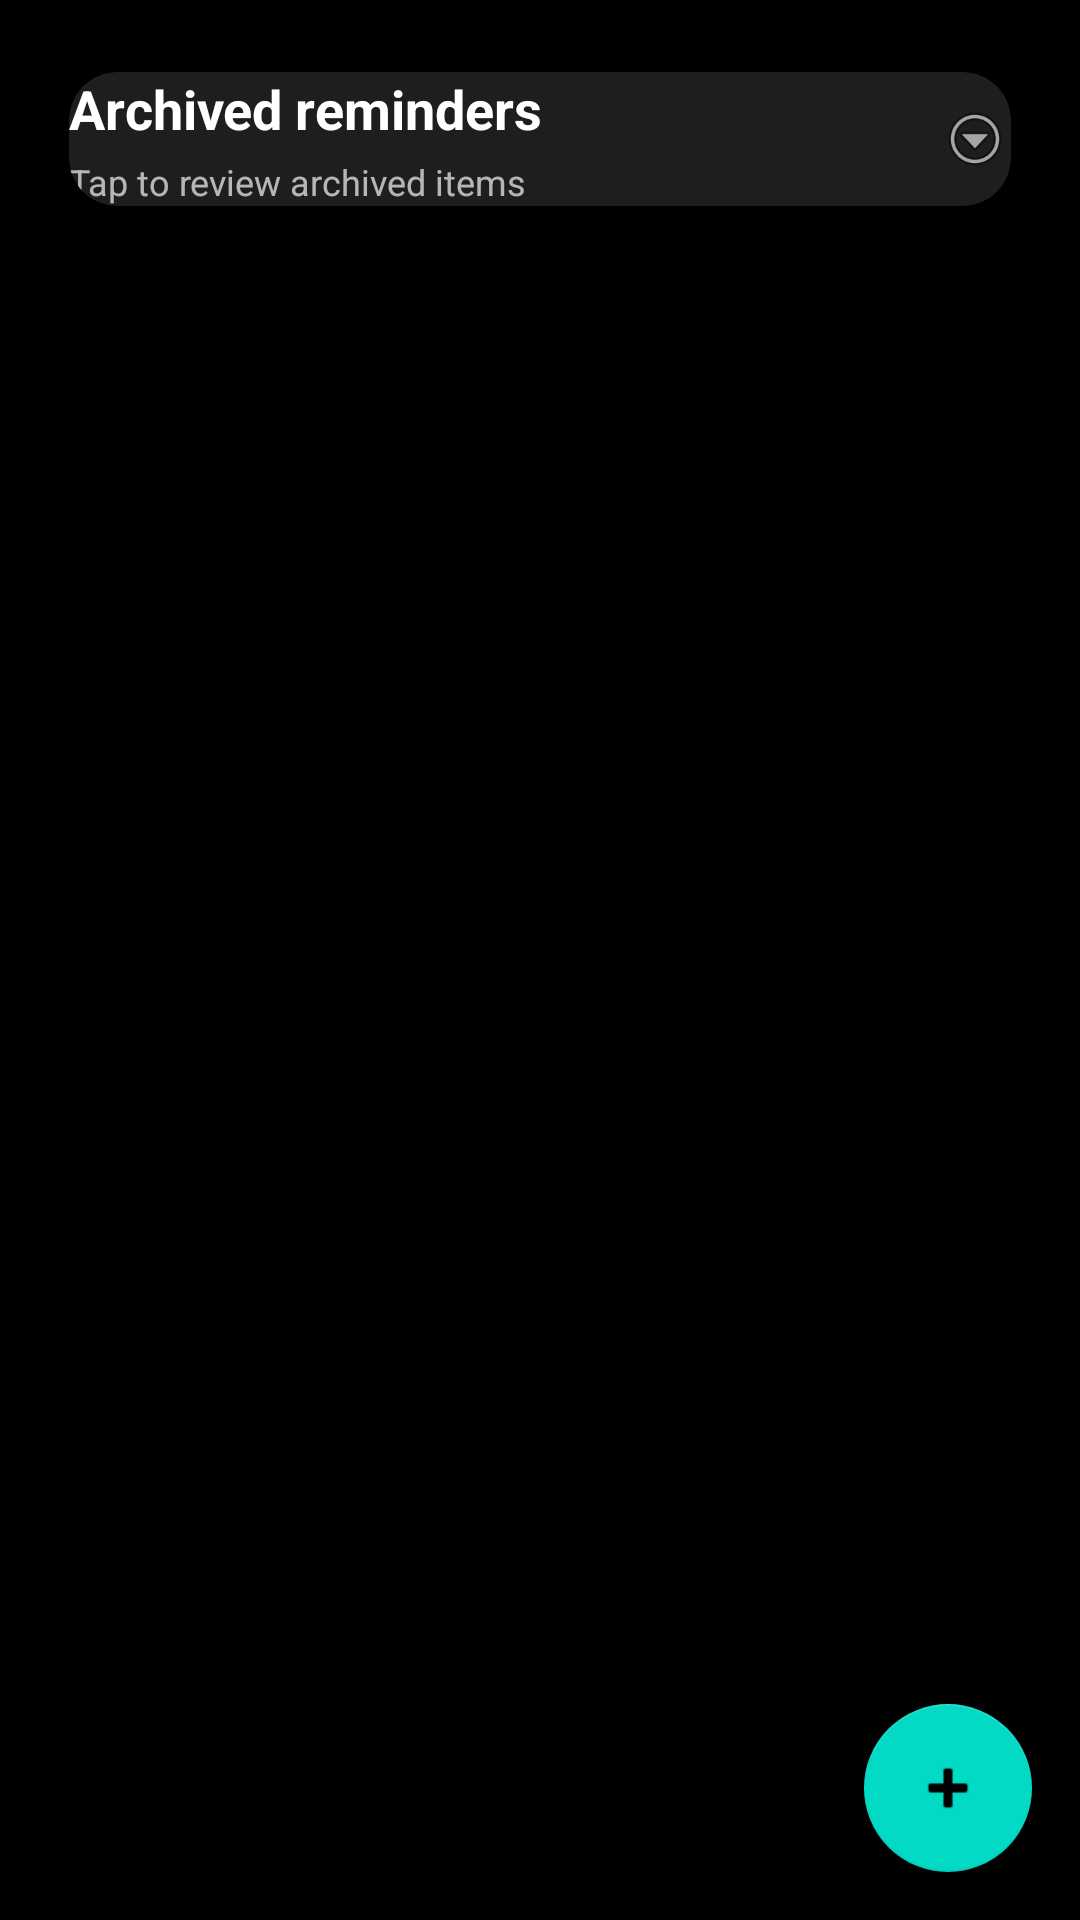

Screen size 1080 × 1920. Icon name, then its center in pixels as (x=x, y=y):
Add reminder: (x=948, y=1788)
